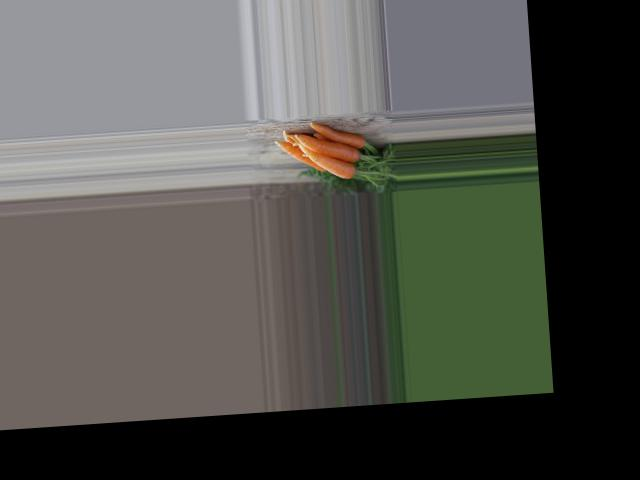carrot: (303, 118, 367, 153)
